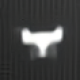plane: (14, 24, 65, 62)
